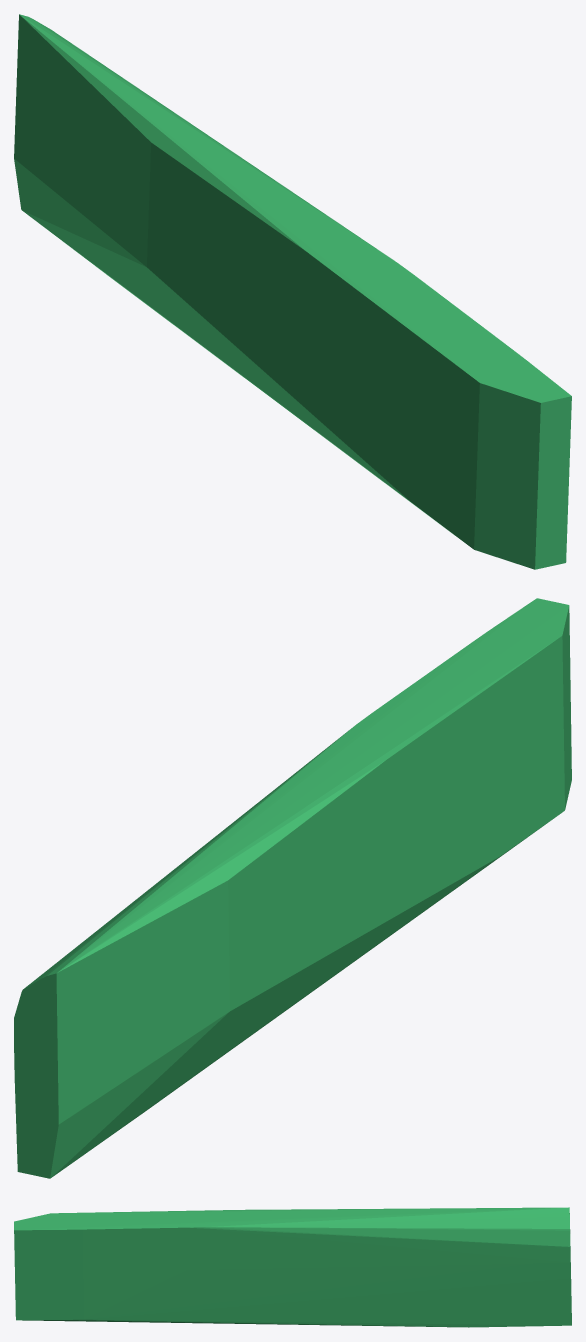
Rendered from converted_Downdraft_Assy_collision_79_40ba6fff.obj.
3 renders of one model, top to bottom at view 1: azimuth 30°, elevation 25°; view 2: azimuth 150°, elevation 25°; view 3: azimuth 270°, elevation 25°, orthographic. The views are drawn at different scales.
Size of the model in its own units: 0.0355 by 0.1052 by 0.4808.
